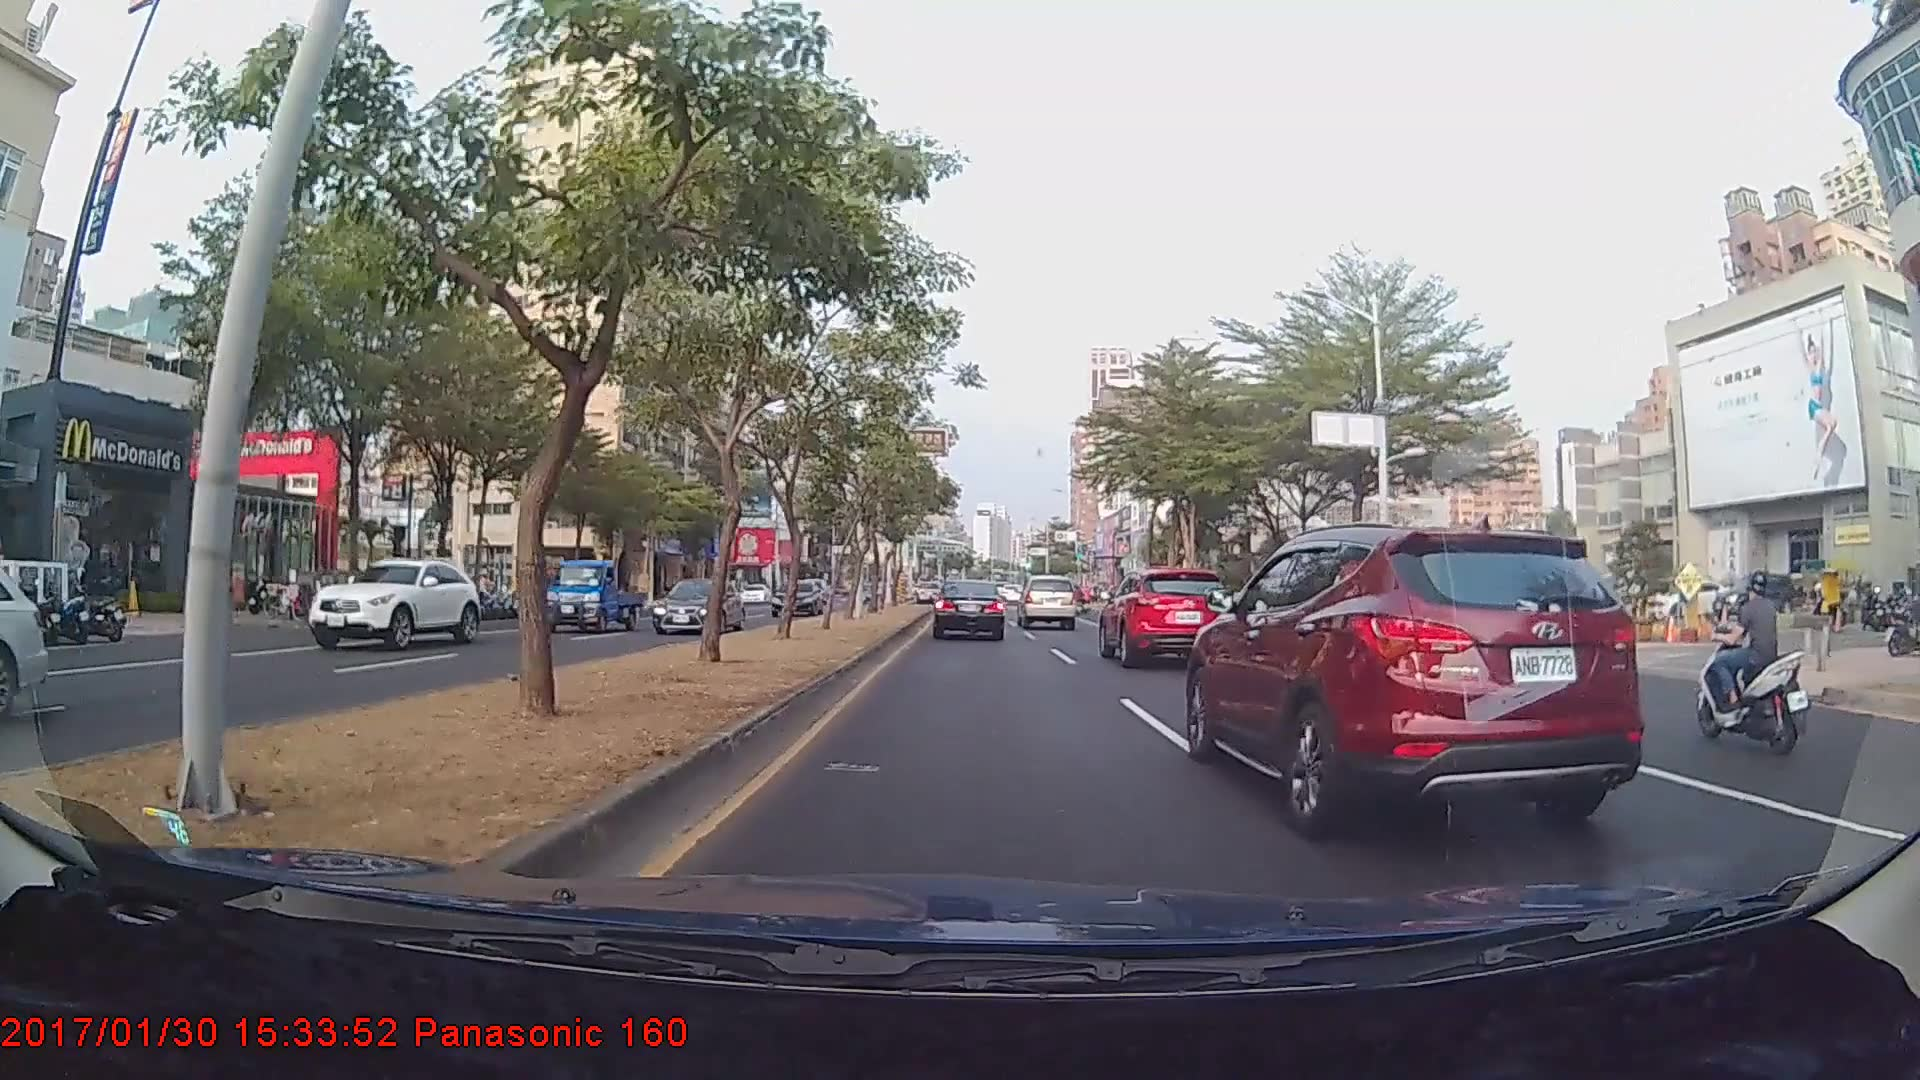rider: (1693, 566, 1816, 758)
vehicle: (1195, 522, 1633, 820), (303, 554, 482, 649), (1095, 564, 1234, 668), (544, 558, 645, 632), (651, 577, 745, 634), (932, 578, 1005, 640), (1017, 574, 1079, 630), (770, 576, 824, 617)
